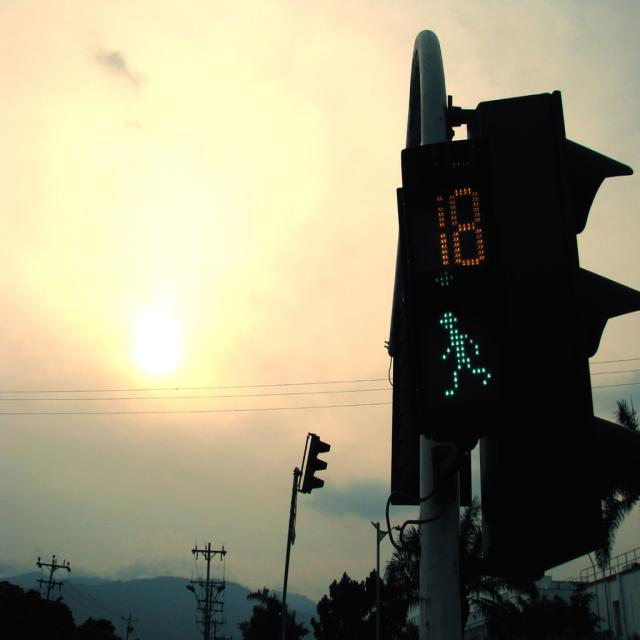off traffic light: (470, 88, 640, 577), (296, 434, 331, 496)
traffic light: (391, 142, 519, 428)
